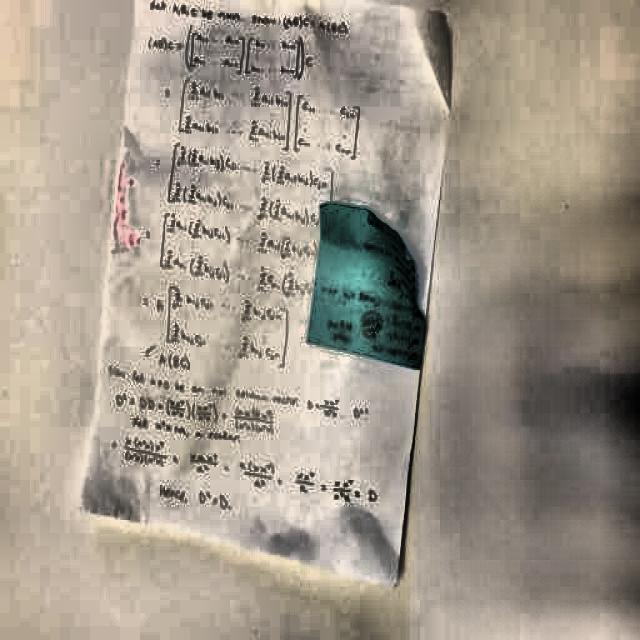paper: (80, 0, 445, 586)
